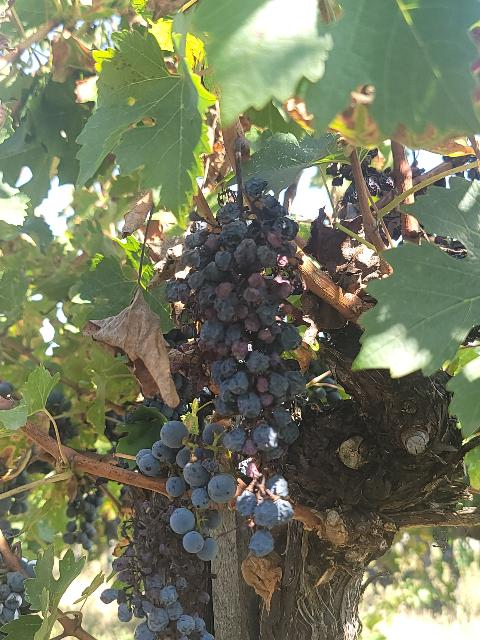grapes: (165, 179, 305, 456), (136, 420, 296, 558)
